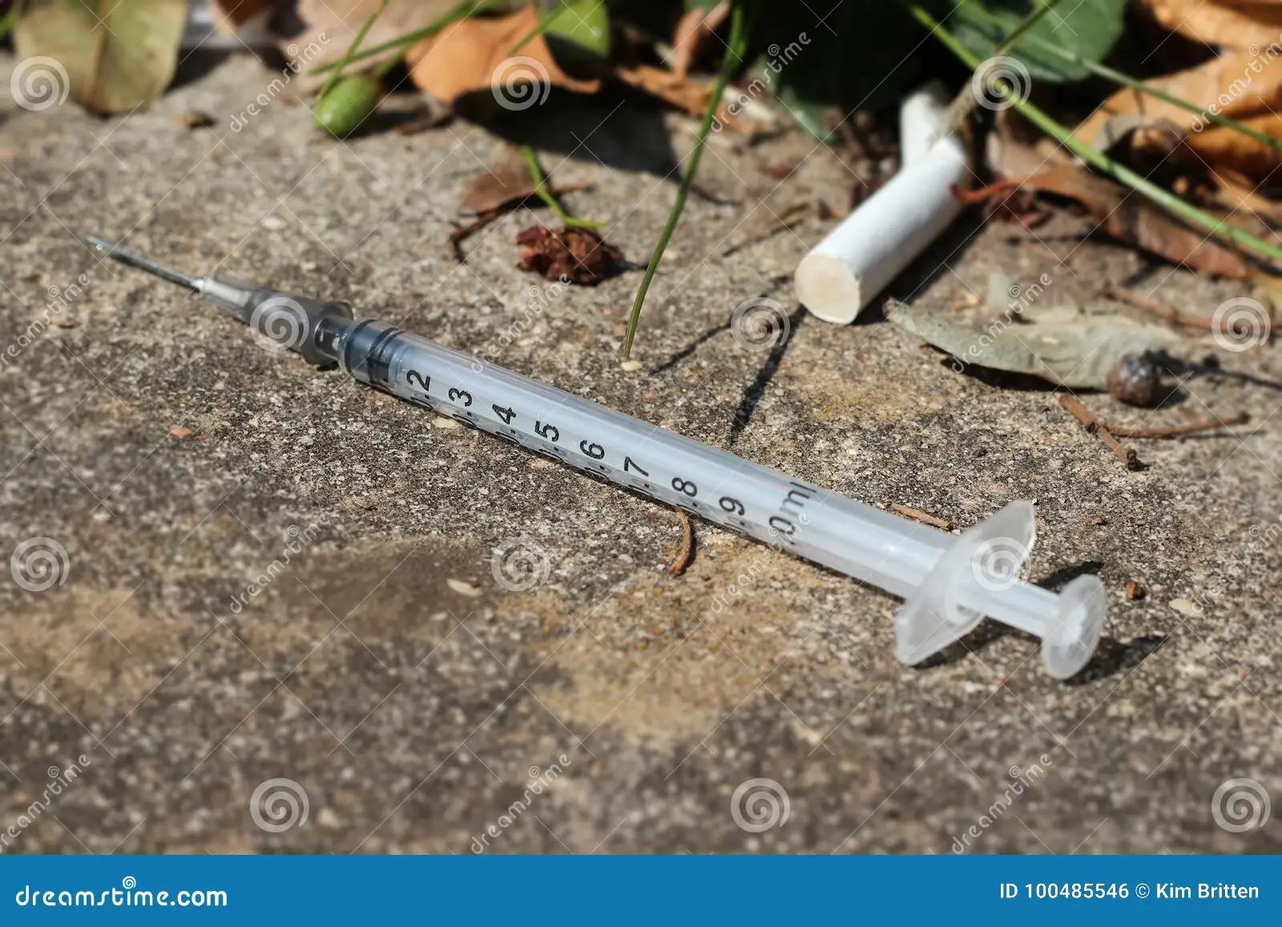Syringe: (89, 237, 1106, 677)
